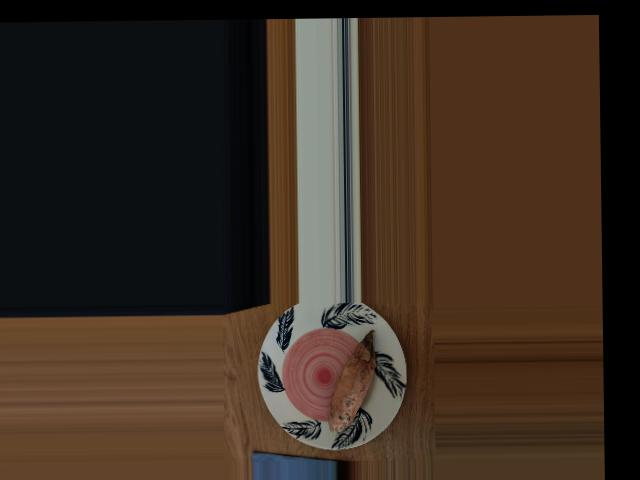sweet_potato: (324, 340, 377, 426)
